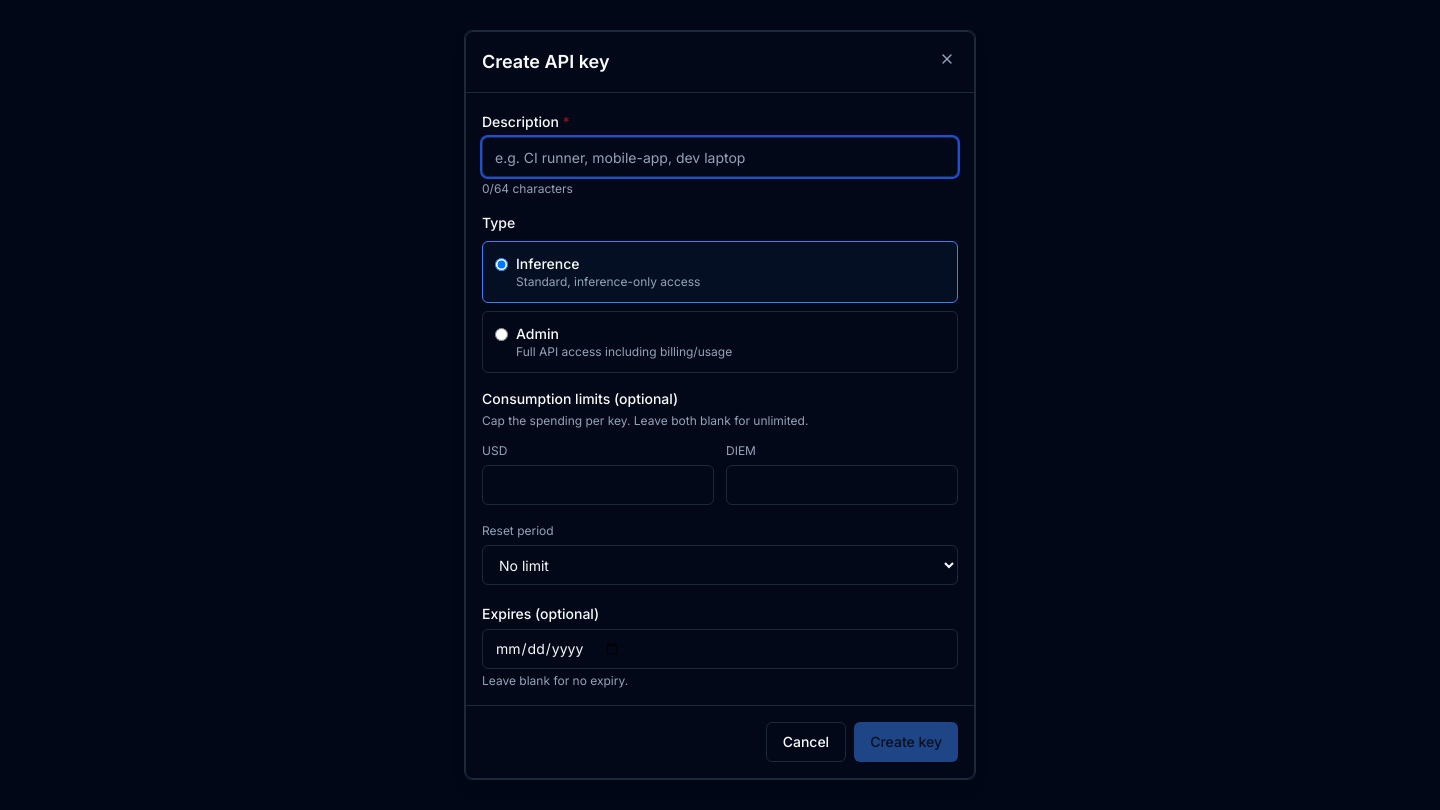
Test: ApiKeyFormModal — create mode › shows character count
In the field labelled "Description *": (720, 157) top-left (482, 137), bottom-right (958, 177), type "Hi"
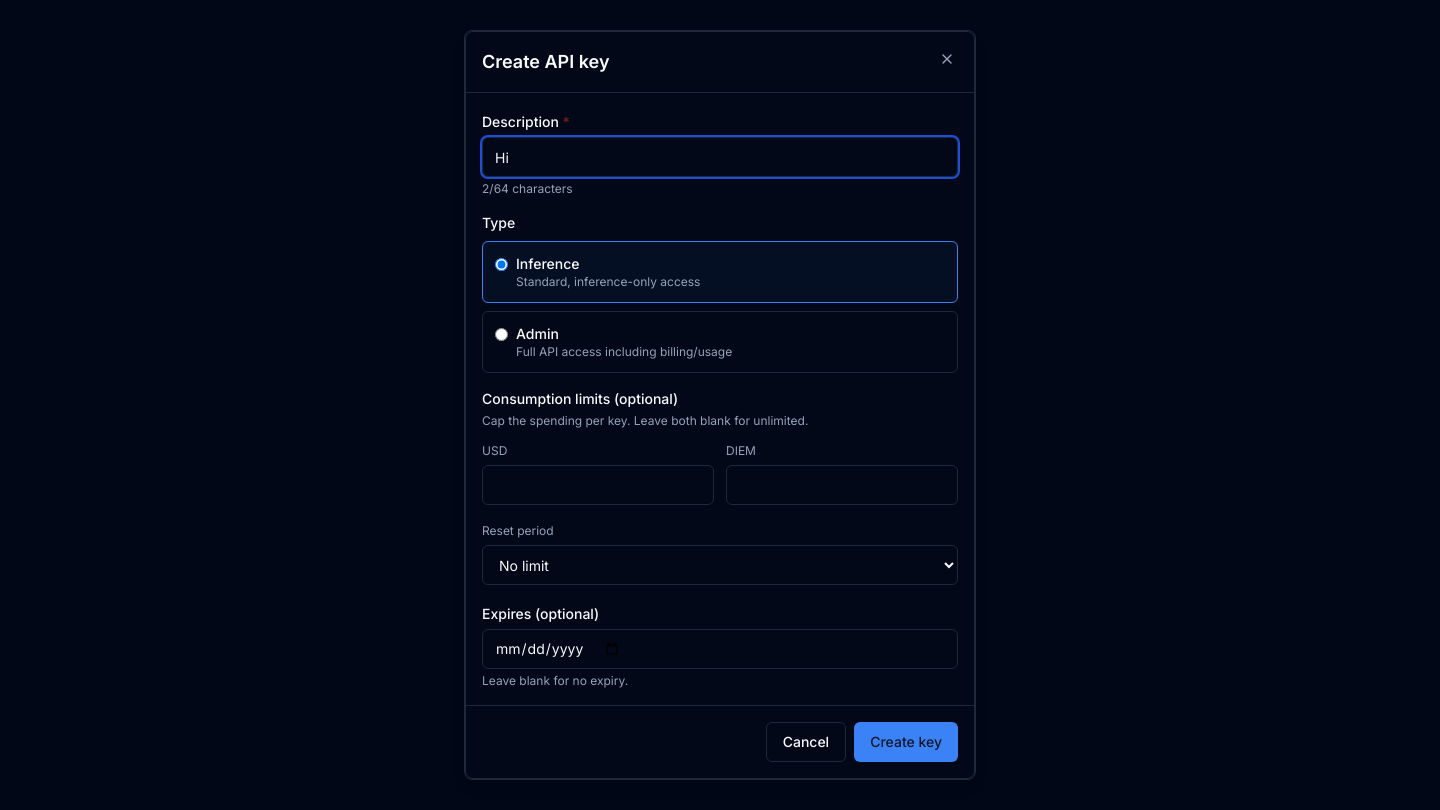
Expected: the text "2/64 characters" is shown, top-left (482, 181), bottom-right (573, 196)
